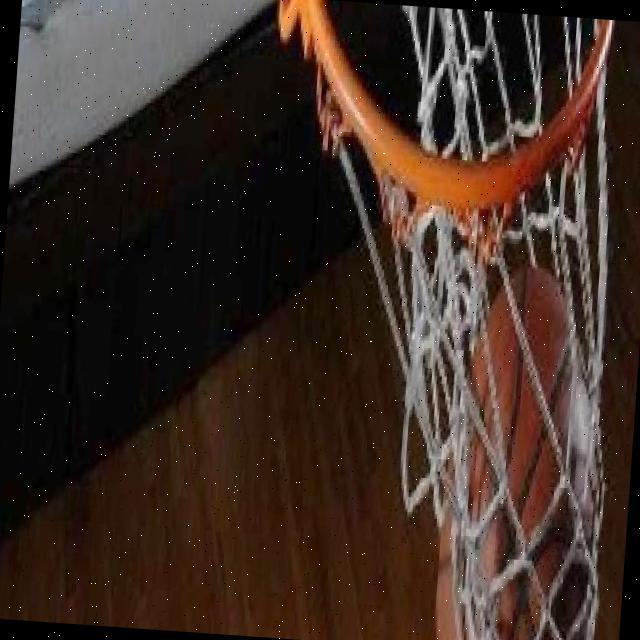ball: (425, 254, 623, 640)
